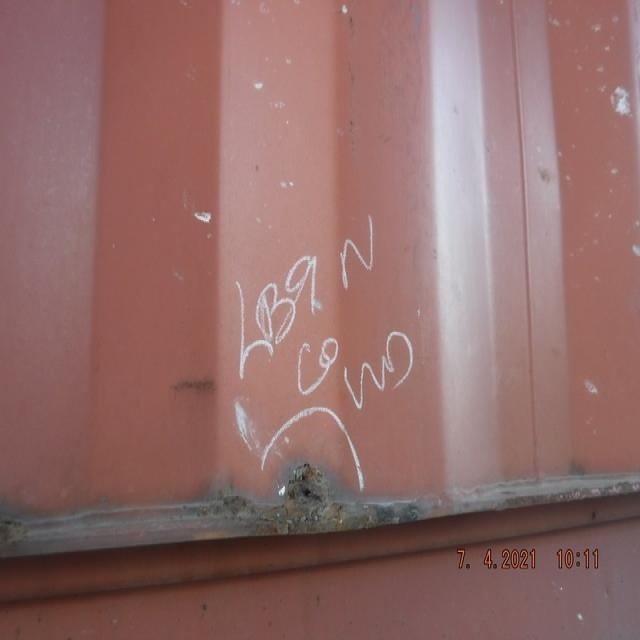rust: (226, 463, 347, 535)
